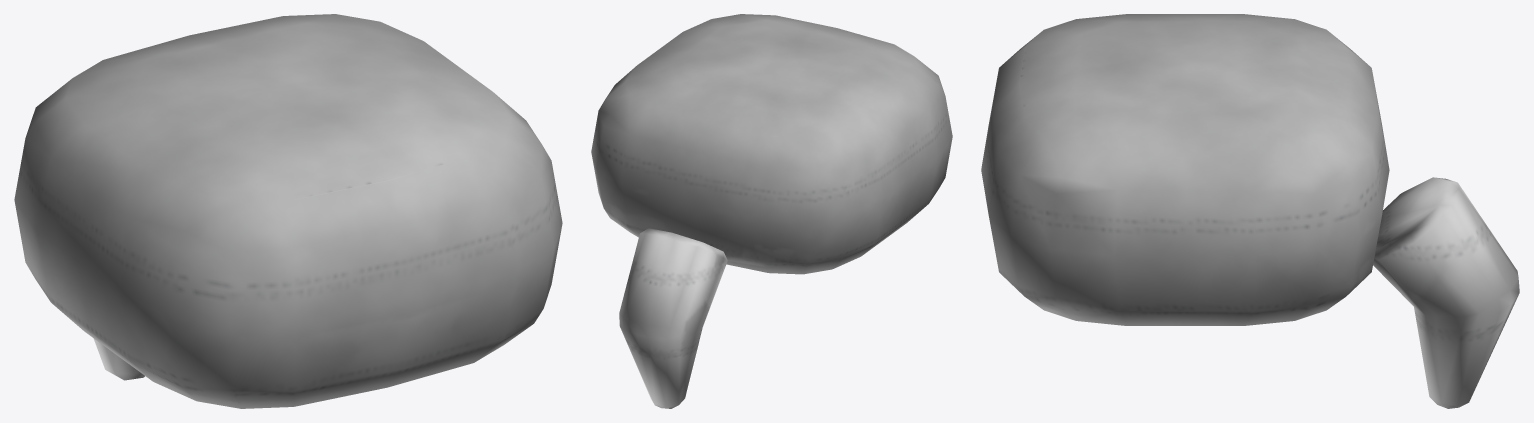
File: Head_C1.fbx
The picture shows the model from 3 angles, left to right: view 1: azimuth 30°, elevation 25°; view 2: azimuth 150°, elevation 25°; view 3: azimuth 270°, elevation 25°; orthographic projection. The views are drawn at different scales.
Visible parts, largest first — view 1: Civ_PeloLargoAtado_Head_C1; view 2: Civ_PeloLargoAtado_Head_C1; view 3: Civ_PeloLargoAtado_Head_C1.
Boxes of the visible parts, x1=… form: Civ_PeloLargoAtado_Head_C1: x1=14, y1=14, x2=562, y2=408; Civ_PeloLargoAtado_Head_C1: x1=591, y1=14, x2=952, y2=408; Civ_PeloLargoAtado_Head_C1: x1=981, y1=14, x2=1519, y2=408.
Bounding box in the file's own units: 1.36 × 1.27 × 1.81.
